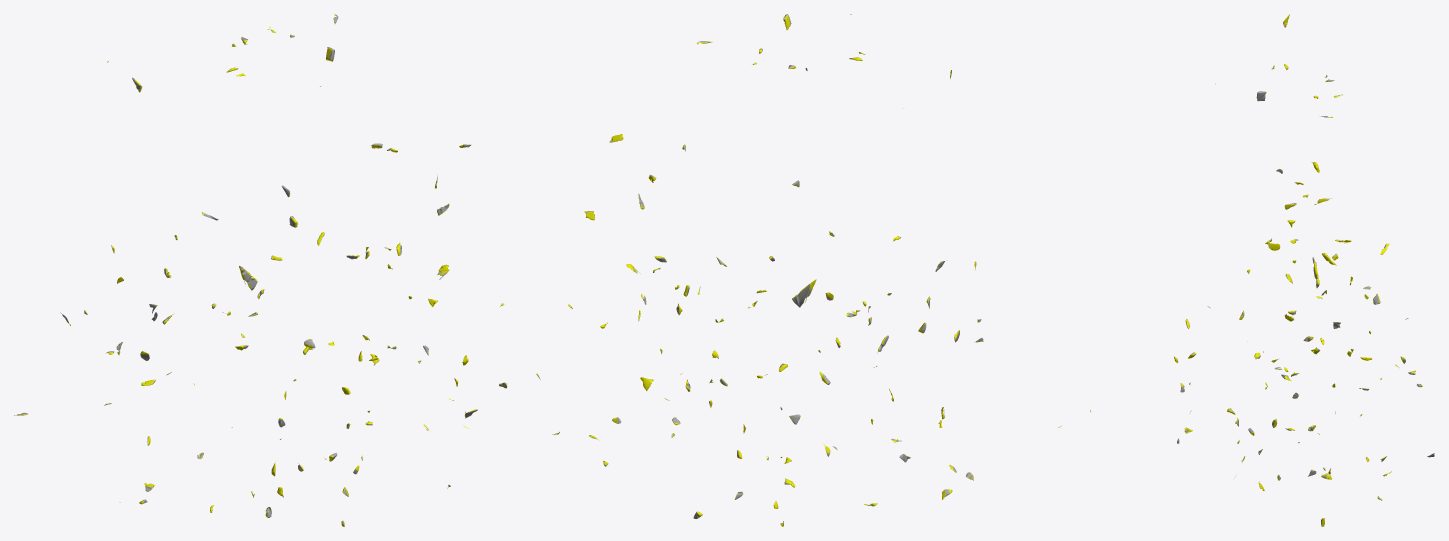
The model's file is stone_scatter.fbx.
3 views of the same model, side by side, from view 1: azimuth 30°, elevation 25°; view 2: azimuth 150°, elevation 25°; view 3: azimuth 270°, elevation 25° (orthographic). The views are drawn at different scales.
Visible parts, largest first — view 1: solidShatter1SetSolved3; view 2: solidShatter1SetSolved3; view 3: solidShatter1SetSolved3.
Boxes of the visible parts, left/top/right/bottom form: solidShatter1SetSolved3: left=14, top=14, right=507, bottom=526; solidShatter1SetSolved3: left=536, top=14, right=1061, bottom=526; solidShatter1SetSolved3: left=1090, top=14, right=1434, bottom=526.
Size of the model in its own units: 37.62 by 39.48 by 29.65.
